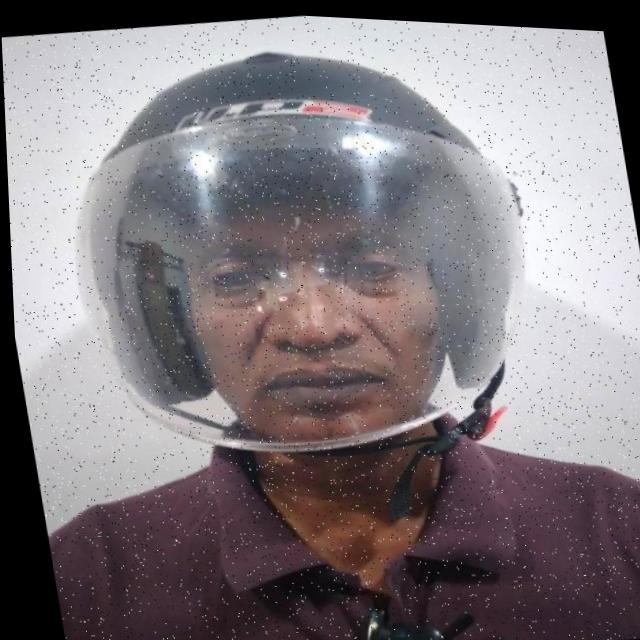helmet: (35, 8, 572, 562)
